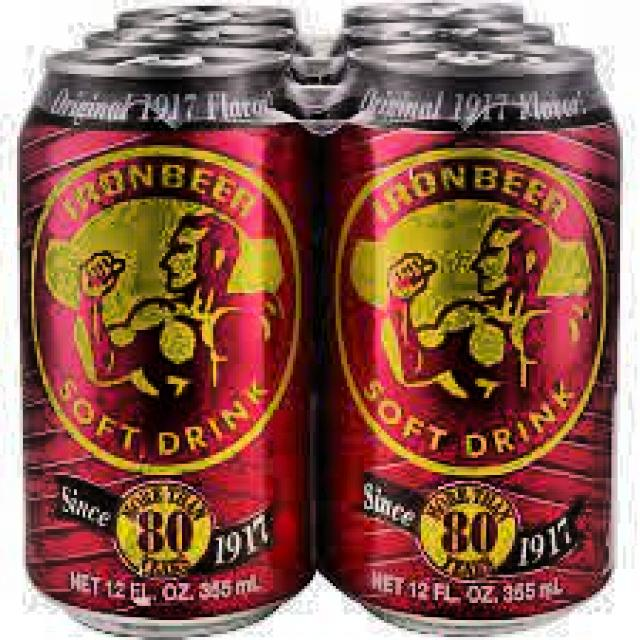can: (316, 39, 628, 640), (12, 44, 317, 640), (71, 21, 322, 70), (323, 19, 570, 58)
